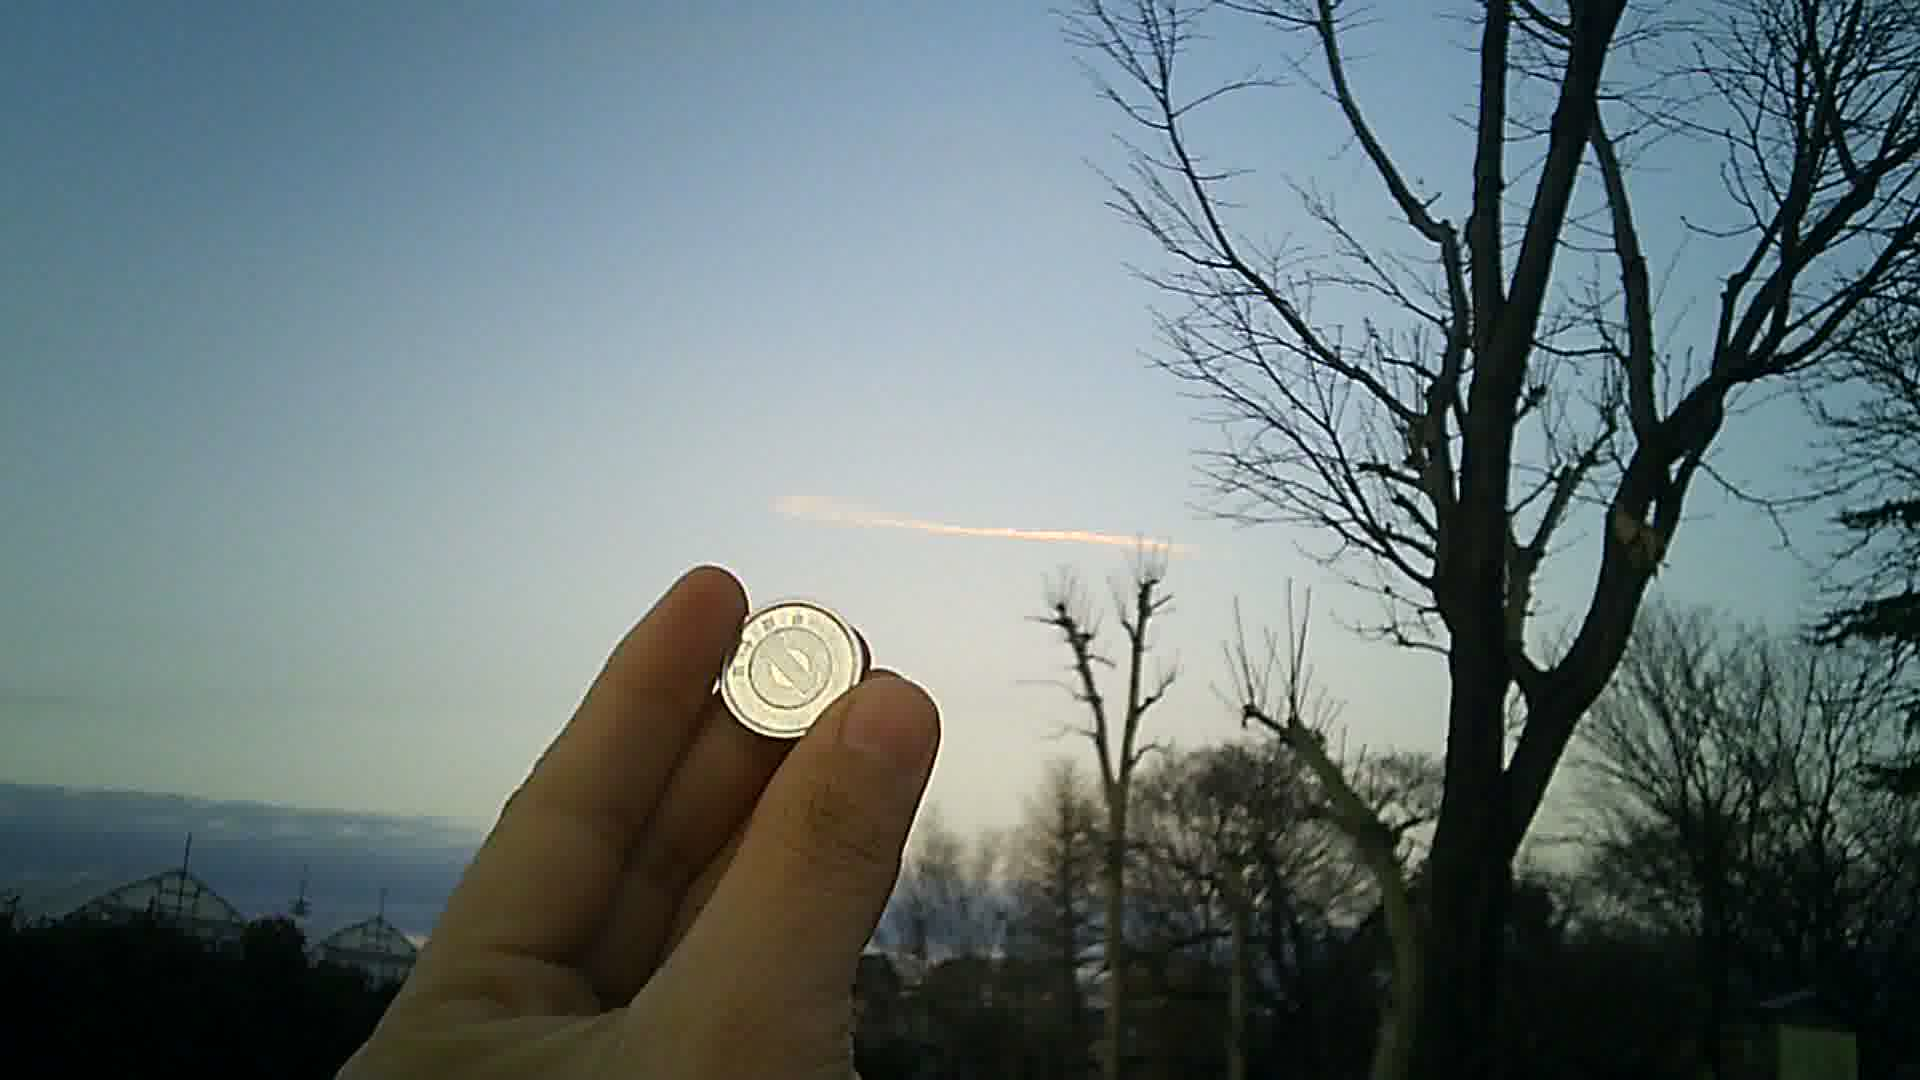1 Yen: (719, 593, 876, 746)
